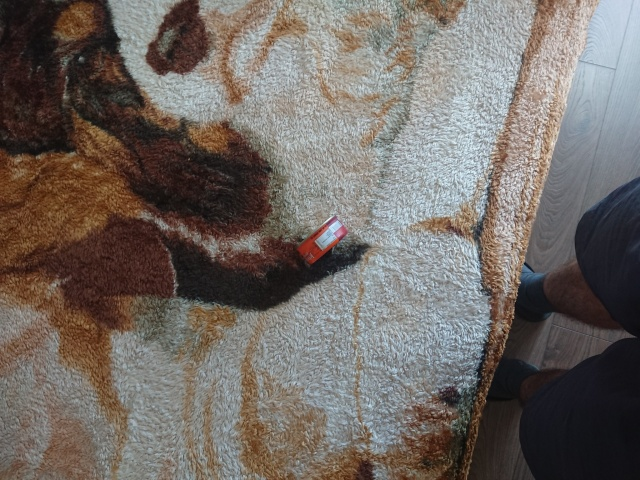Gavrilovic Pork Liver Pate 100g: (294, 213, 349, 266)
